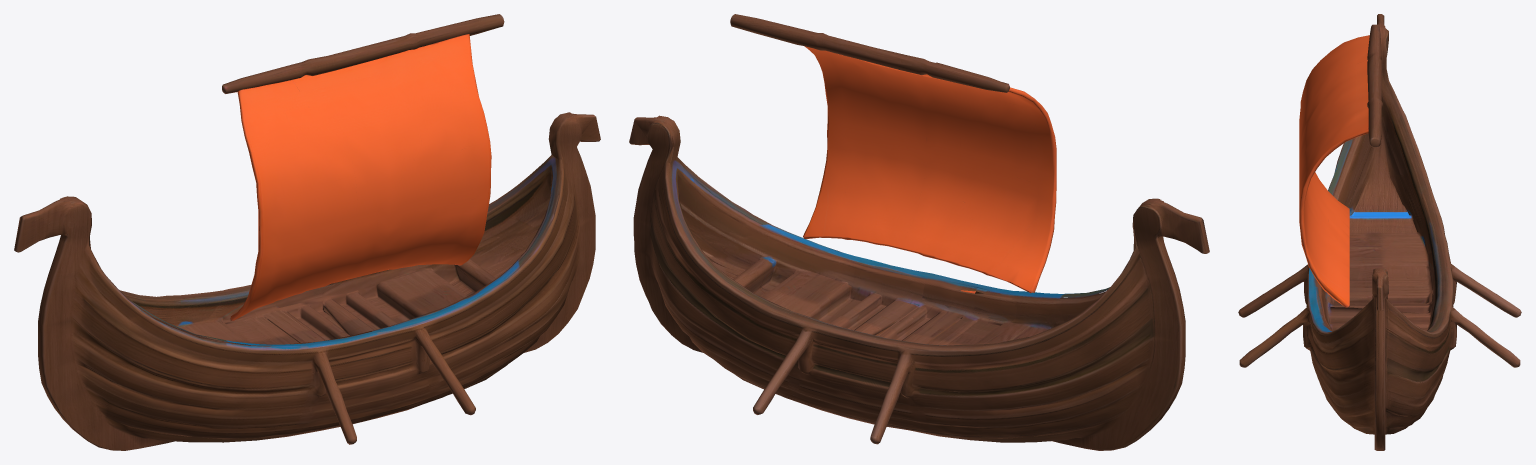
The model's file is ship.glb.
3 renders of one model, left to right at view 1: azimuth 30°, elevation 25°; view 2: azimuth 150°, elevation 25°; view 3: azimuth 270°, elevation 25°, orthographic. The views are drawn at different scales.
Visible parts, largest first — view 1: world; view 2: world; view 3: world.
Part boxes in pixels (left/top/right/bottom): world: left=14, top=14, right=600, bottom=450; world: left=629, top=14, right=1209, bottom=450; world: left=1238, top=14, right=1521, bottom=450.
Bounding box in the file's own units: 1.91 × 1.09 × 0.9276.
Materials: 1 (1 with a texture image).
